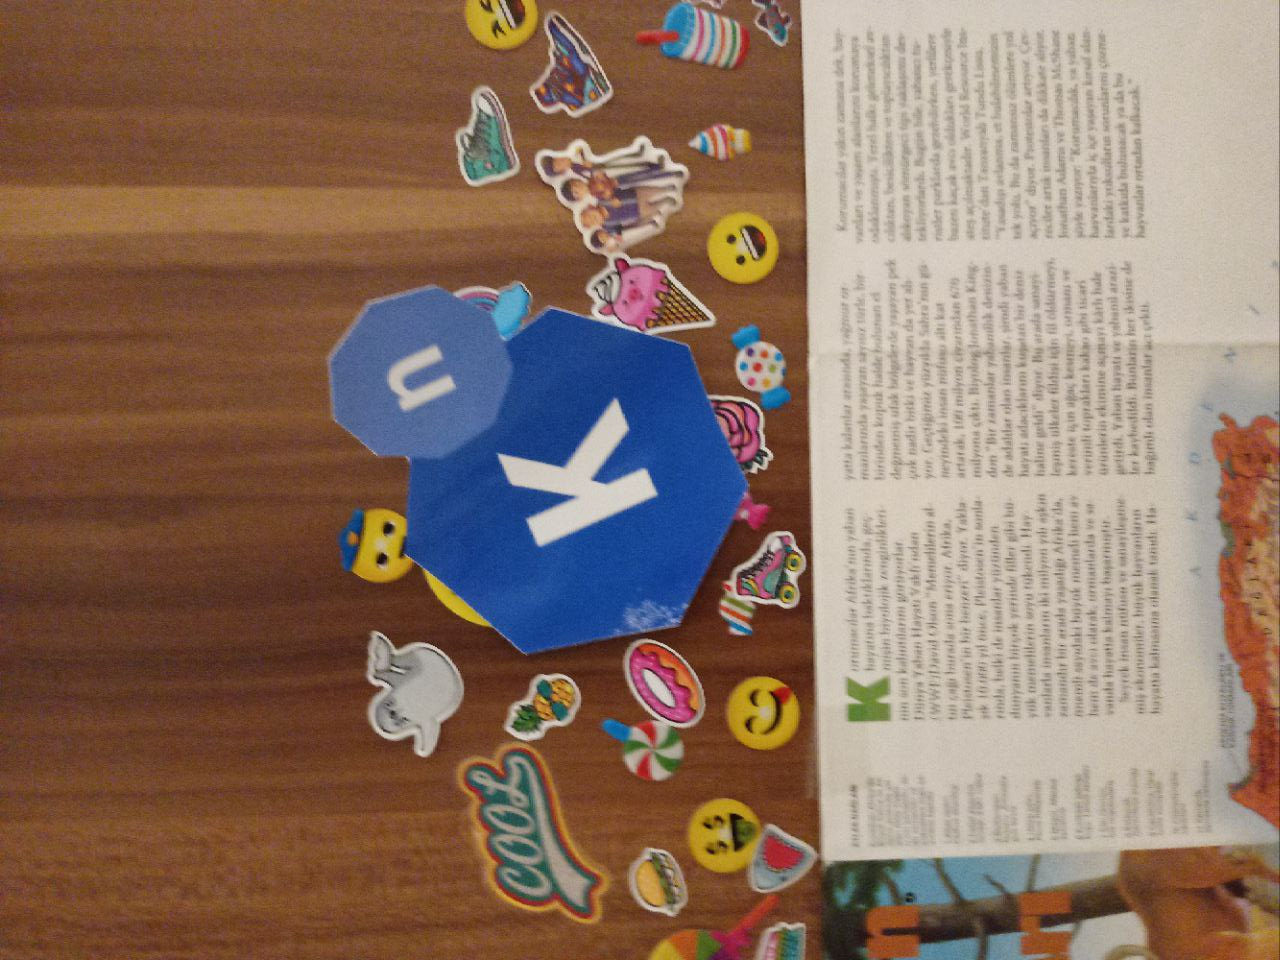knative: (328, 284, 746, 654)
